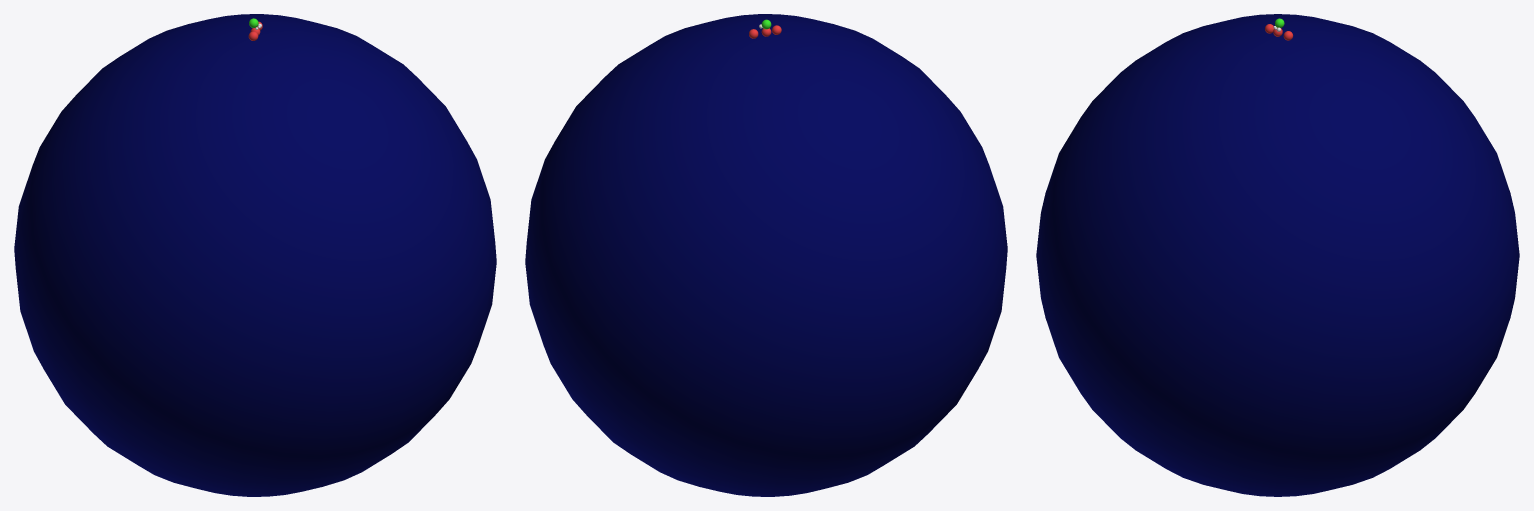
File: Basic.fbx
3 views of the same model, side by side, from view 1: azimuth 30°, elevation 25°; view 2: azimuth 150°, elevation 25°; view 3: azimuth 270°, elevation 25° (orthographic).
Visible parts, largest first — view 1: Sphere.001; view 2: Sphere.001; view 3: Sphere.001.
Boxes of the visible parts, left/top/right/bottom form: Sphere.001: left=14, top=14, right=496, bottom=496; Sphere.001: left=525, top=14, right=1007, bottom=496; Sphere.001: left=1036, top=14, right=1519, bottom=496.
Bounding box in the file's own units: 10000 × 10389 × 10000.
